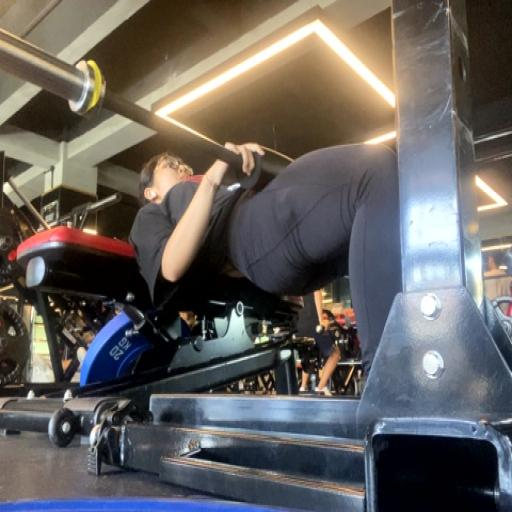exercise: (127, 136, 402, 390)
